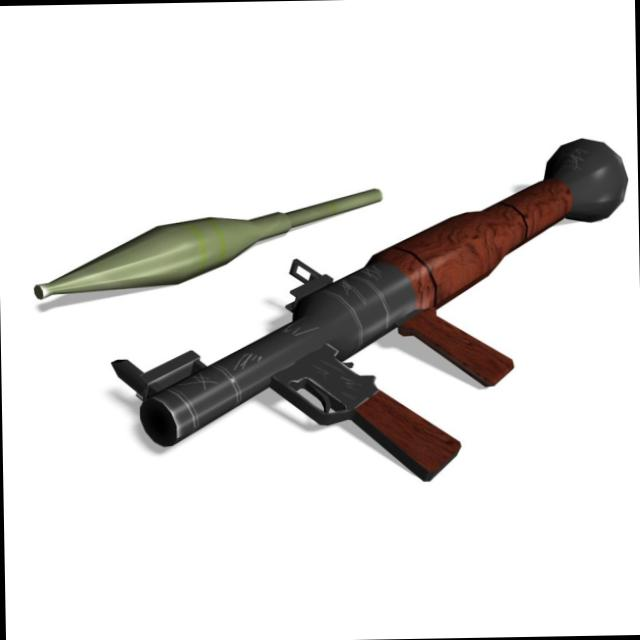Gun: (64, 138, 640, 503)
